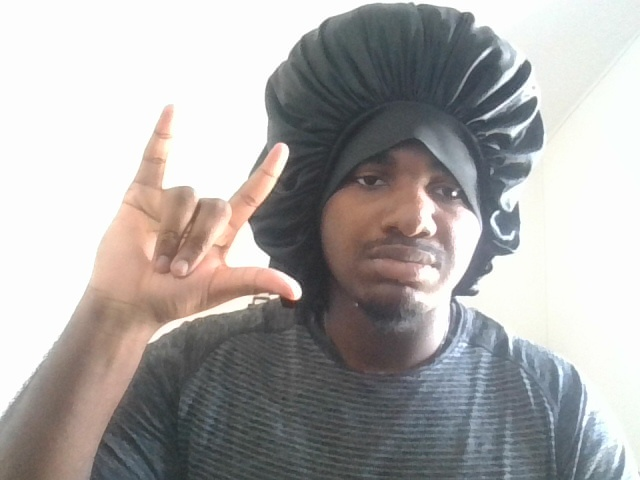I Love You: (73, 87, 306, 318)
